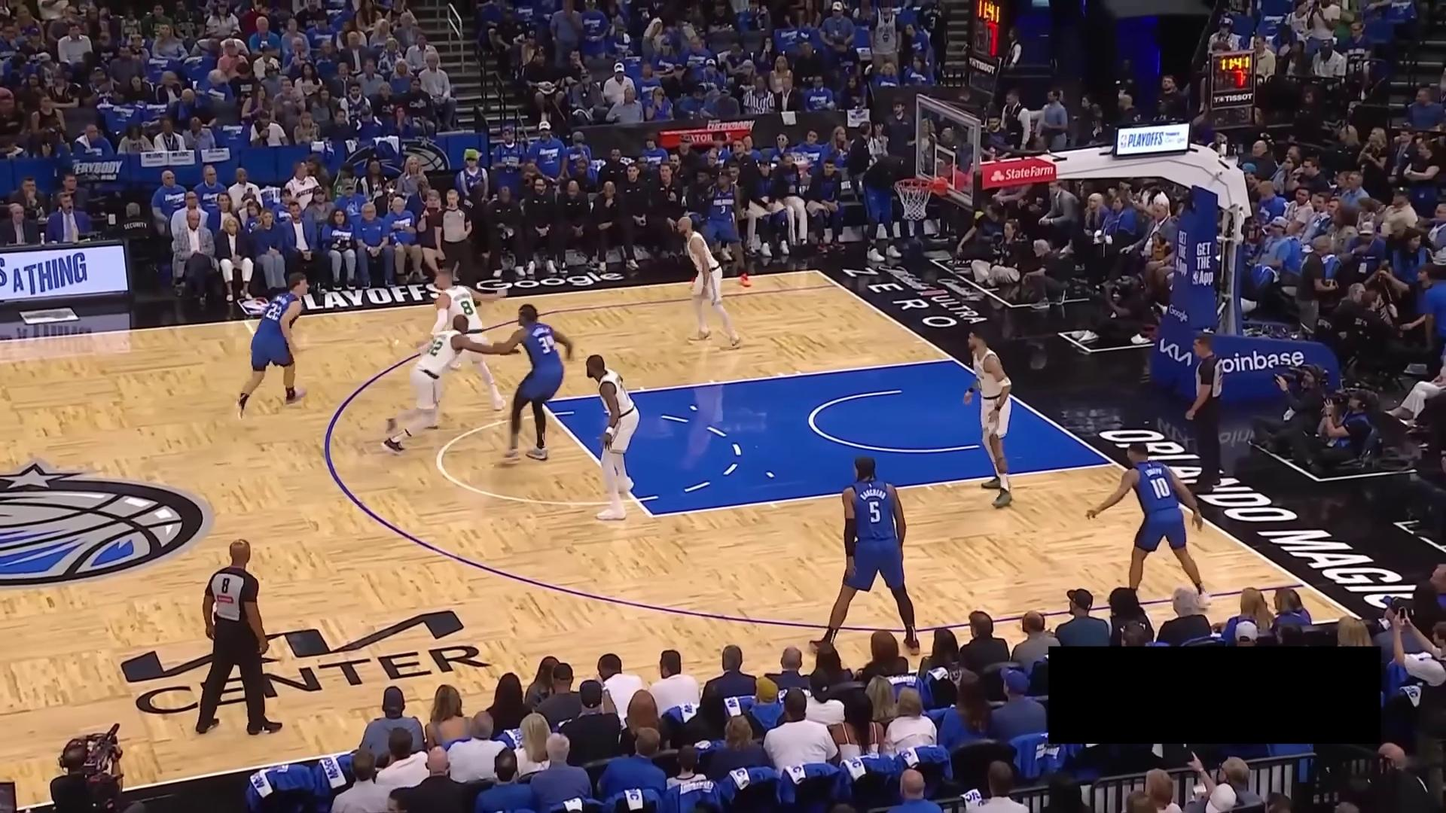number: (1149, 477, 1170, 499), (265, 302, 282, 321), (868, 500, 881, 524), (539, 335, 554, 354), (429, 339, 444, 357), (459, 300, 474, 315), (721, 204, 726, 214)
player: (807, 454, 923, 658), (1084, 441, 1214, 614), (381, 312, 520, 455), (417, 268, 506, 430), (492, 303, 574, 466), (236, 271, 312, 422), (962, 328, 1016, 508), (585, 353, 641, 522), (677, 216, 743, 351), (693, 166, 752, 288)
referee: (195, 538, 283, 736), (1185, 333, 1227, 495), (434, 188, 475, 288)
rim: (894, 177, 935, 192)
